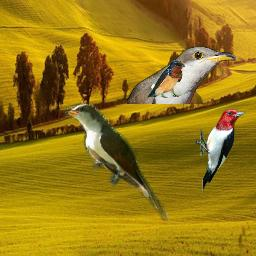Cuckoo: (65, 101, 169, 221), (127, 46, 236, 104)
Swallow: (146, 60, 185, 99)
Woodpecker: (194, 109, 247, 192)
